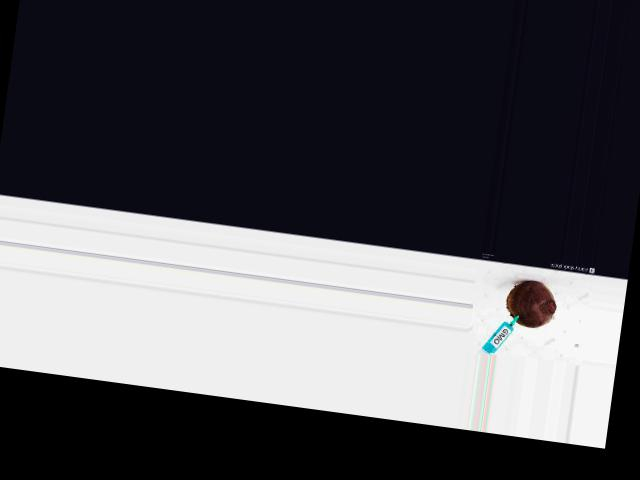beet: (503, 277, 558, 330)
